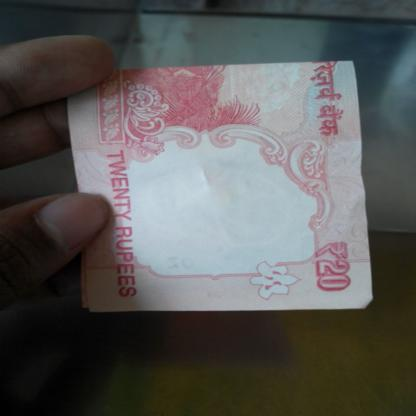Old20Back: (67, 72, 363, 308)
